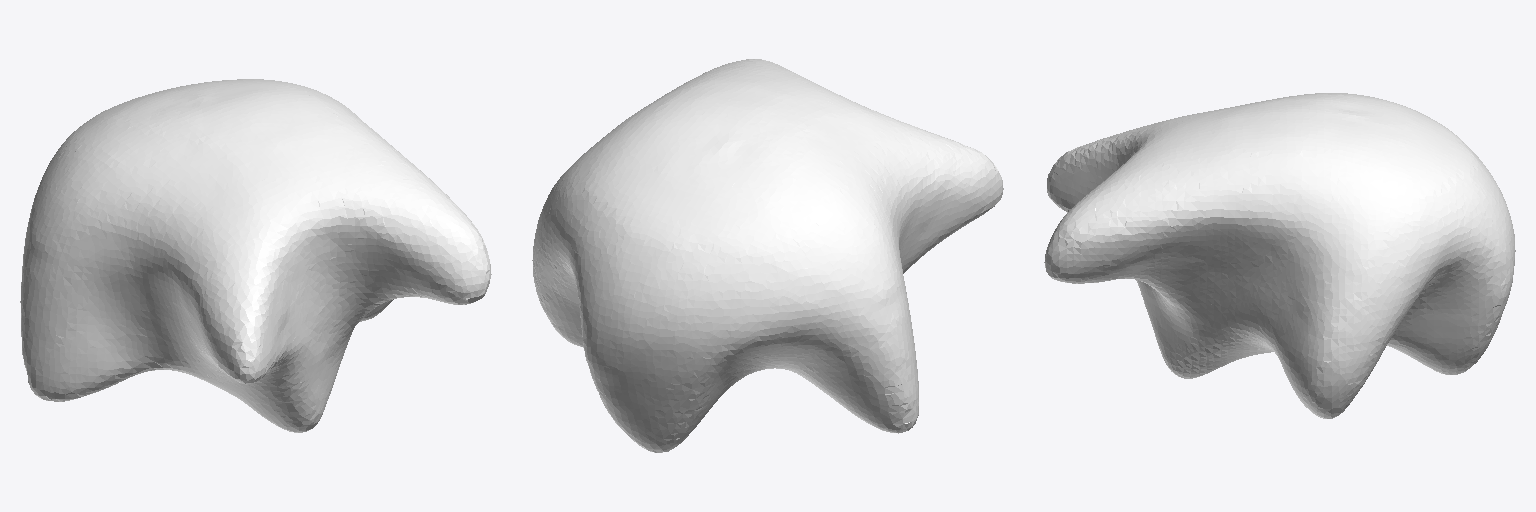
URDF robot description (feelie3):
<robot name="feelie3">
	<link name="_name">
		<visual>
			<origin rpy="0 0 0" xyz="0.00034680224379021057 -0.004314257300168287 -0.0029430271250507492" />
			<geometry>
				<mesh filename="feelie3.obj" scale="0.001 0.001 0.001" />
			</geometry>
			<material name="texture">
				<color rgba="1.0 1.0 1.0 1.0" />
			</material>
		</visual>
		<collision>
			<geometry>
				<mesh filename="feelie3_vhacd.obj" scale="0.001 0.001 0.001" />
			</geometry>
		<origin rpy="0 0 0" xyz="0.00034680224379021057 -0.004314257300168287 -0.0029430271250507492" /></collision>
		<inertial>
			<mass value="1.0" />
			<inertia ixx="1.0" ixy="0.0" ixz="0.0" iyy="1.0" iyz="0.0" izz="1.0" />
		</inertial>
	</link>
</robot>

--- Facts derived from the render (not from the file) ---
The picture shows the robot from 3 angles, left to right: view 1: azimuth 30°, elevation 25°; view 2: azimuth 150°, elevation 25°; view 3: azimuth 270°, elevation 25°; orthographic projection.
Model feelie3 with 1 links and 0 joints (none), rooted at _name, posed every joint at zero.
Links seen in each view (by area): view 1: _name; view 2: _name; view 3: _name.
Link boxes in pixels (box(x1,y1,x2,y2)): _name: box(20, 79, 491, 432); _name: box(532, 59, 1003, 452); _name: box(1044, 93, 1515, 418).
Bounding box of the posed robot: 0.0798 × 0.0919 × 0.0568 m (x, y, z).
1 mesh visuals loaded from 1 distinct referenced files (1 OBJ).
